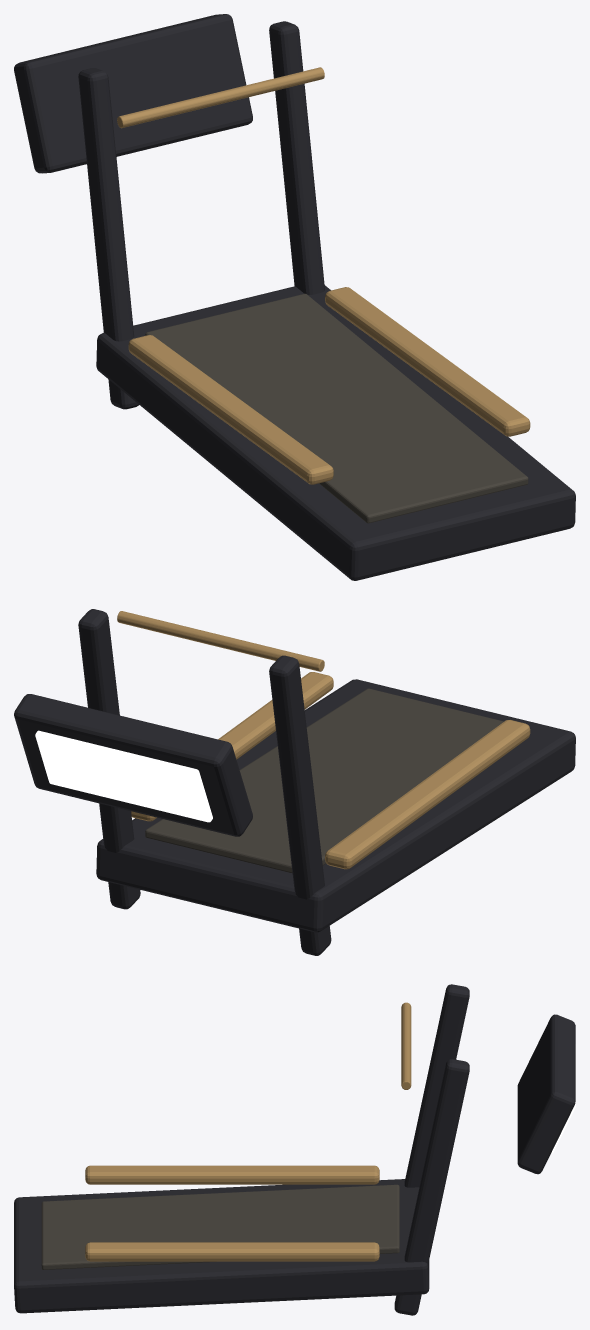
Rendered from treadmill.glb.
3 renders of one model, top to bottom at view 1: azimuth 30°, elevation 25°; view 2: azimuth 150°, elevation 25°; view 3: azimuth 270°, elevation 25°, orthographic. The views are drawn at different scales.
Visible parts, largest first — view 1: tm_belt, tm_deck, tm_console, tm_post_-1, tm_post_1, tm_rail_-1, tm_rail_1, tm_bar; view 2: tm_deck, tm_belt, tm_console, tm_screen, tm_post_-1, tm_rail_-1, tm_post_1, tm_bar, tm_rail_1; view 3: tm_deck, tm_belt, tm_console, tm_rail_-1, tm_rail_1, tm_post_1, tm_post_-1, tm_bar.
Part boxes in pixels (x1,y1,x2,y2): tm_belt: [145, 293, 528, 523]; tm_deck: [96, 285, 575, 580]; tm_console: [14, 14, 252, 173]; tm_post_-1: [78, 68, 138, 409]; tm_post_1: [269, 21, 324, 294]; tm_rail_-1: [128, 335, 333, 484]; tm_rail_1: [325, 287, 530, 436]; tm_bar: [117, 67, 324, 128]; tm_deck: [96, 679, 575, 932]; tm_belt: [145, 688, 503, 873]; tm_console: [14, 694, 252, 836]; tm_screen: [35, 730, 212, 822]; tm_post_-1: [269, 655, 331, 955]; tm_rail_-1: [325, 720, 530, 869]; tm_post_1: [78, 609, 140, 909]; tm_bar: [117, 611, 324, 671]; tm_rail_1: [131, 672, 333, 821]; tm_deck: [14, 1179, 429, 1313]; tm_belt: [41, 1184, 399, 1269]; tm_console: [517, 1014, 575, 1174]; tm_rail_-1: [85, 1165, 379, 1184]; tm_rail_1: [85, 1242, 379, 1261]; tm_post_1: [394, 1059, 469, 1315]; tm_post_-1: [404, 984, 469, 1187]; tm_bar: [401, 1002, 411, 1089].
Size of the model in its own units: 0.78 by 1.04 by 2.1.
